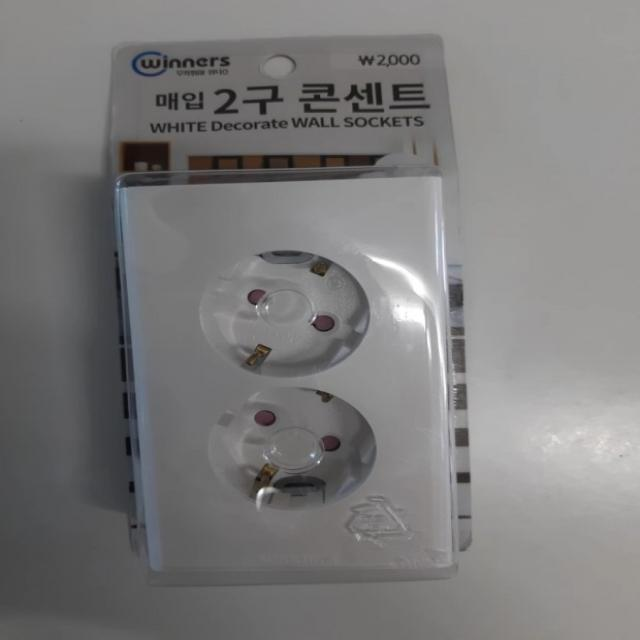typeb: (81, 148, 546, 618)
